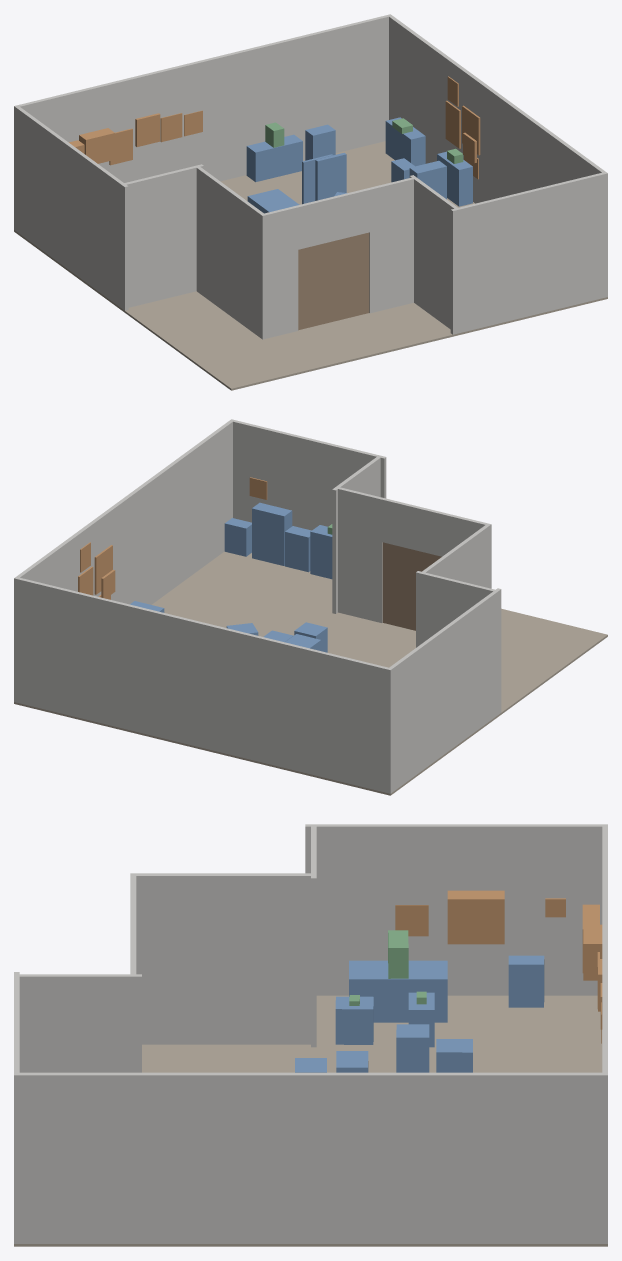
The model's file is room_110.glb.
The picture shows the model from 3 angles, top to bottom: view 1: azimuth 30°, elevation 25°; view 2: azimuth 150°, elevation 25°; view 3: azimuth 270°, elevation 25°; orthographic projection. The views are drawn at different scales.
Visible parts, largest first — view 1: shell_wall_7_s0, shell_wall_5_s0, shell_floor, shell_wall_6_s0, shell_wall_0_s0, shell_wall_1_s0, shell_wall_2_s0, shell_wall_3_door, shell_wall_3_s2, shell_wall_4_s0, shell_wall_3_s0, shell_wall_3_s1 (+14 smaller); view 2: shell_wall_7_s0, shell_floor, shell_wall_6_s0, shell_wall_0_s0, shell_wall_5_s0, shell_wall_3_s2, shell_wall_3_s1, shell_wall_1_s0, shell_wall_3_door, shell_wall_2_s0, obj_027, shell_wall_4_s0 (+6 smaller); view 3: shell_wall_6_s0, shell_wall_0_s0, shell_wall_2_s0, shell_floor, shell_wall_4_s0, obj_023, obj_005, obj_003, shell_wall_7_s0, obj_002, obj_018, shell_wall_5_s0 (+8 smaller).
Part boxes in pixels (x1,y1,x2,y2): shell_wall_7_s0: [14, 14, 390, 230]; shell_wall_5_s0: [450, 172, 607, 334]; shell_floor: [14, 141, 607, 390]; shell_wall_6_s0: [387, 14, 607, 297]; shell_wall_0_s0: [14, 106, 128, 310]; shell_wall_1_s0: [120, 164, 203, 308]; shell_wall_2_s0: [196, 167, 266, 339]; shell_wall_3_door: [298, 232, 369, 330]; shell_wall_3_s2: [368, 177, 413, 313]; shell_wall_4_s0: [409, 175, 460, 333]; shell_wall_3_s0: [260, 206, 298, 338]; shell_wall_3_s1: [296, 188, 369, 249]; shell_wall_7_s0: [14, 578, 392, 793]; shell_floor: [14, 551, 607, 795]; shell_wall_6_s0: [14, 420, 233, 702]; shell_wall_0_s0: [387, 588, 501, 793]; shell_wall_5_s0: [230, 419, 386, 530]; shell_wall_3_s2: [335, 486, 383, 622]; shell_wall_3_s1: [382, 498, 455, 556]; shell_wall_1_s0: [416, 571, 499, 647]; shell_wall_3_door: [382, 542, 441, 630]; shell_wall_2_s0: [419, 523, 491, 644]; obj_027: [252, 502, 292, 565]; shell_wall_4_s0: [332, 455, 382, 613]; shell_wall_6_s0: [14, 1072, 607, 1243]; shell_wall_0_s0: [305, 824, 607, 995]; shell_wall_2_s0: [130, 873, 314, 1044]; shell_floor: [14, 995, 607, 1246]; shell_wall_4_s0: [14, 974, 141, 1072]; obj_023: [349, 960, 447, 1022]; obj_005: [447, 890, 504, 944]; obj_003: [508, 955, 544, 1007]; shell_wall_7_s0: [602, 824, 607, 1243]; obj_002: [335, 996, 373, 1044]; obj_018: [396, 1024, 429, 1072]; shell_wall_5_s0: [14, 972, 19, 1243].
Bounding box in the file's own units: 10.2 × 3.25 × 10.2.
